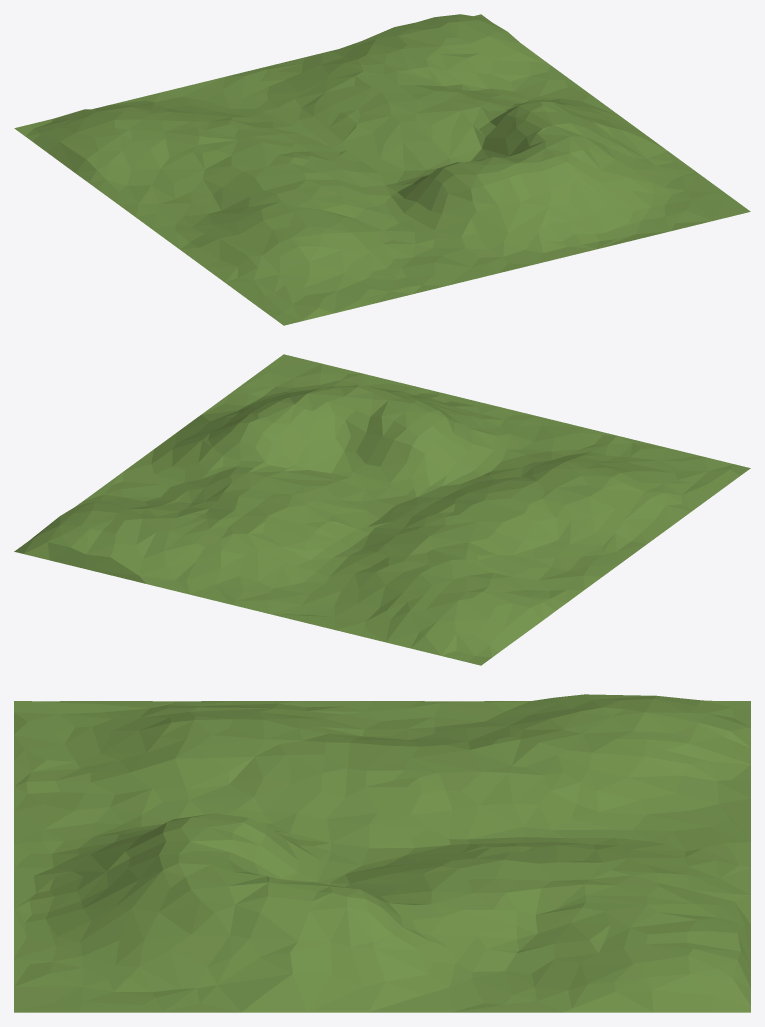
The model's file is Terrain_2_mod.fbx.
The picture shows the model from 3 angles, top to bottom: view 1: azimuth 30°, elevation 25°; view 2: azimuth 150°, elevation 25°; view 3: azimuth 270°, elevation 25°; orthographic projection. The views are drawn at different scales.
Parts seen in each view (by area): view 1: Terrain_2_mod; view 2: Terrain_2_mod; view 3: Terrain_2_mod.
Boxes of the visible parts, x1,y1,x2,y2 form: Terrain_2_mod: (14,14,750,325); Terrain_2_mod: (14,354,750,665); Terrain_2_mod: (14,694,750,1012).
Size of the model in its own units: 2000 by 180 by 2000.
